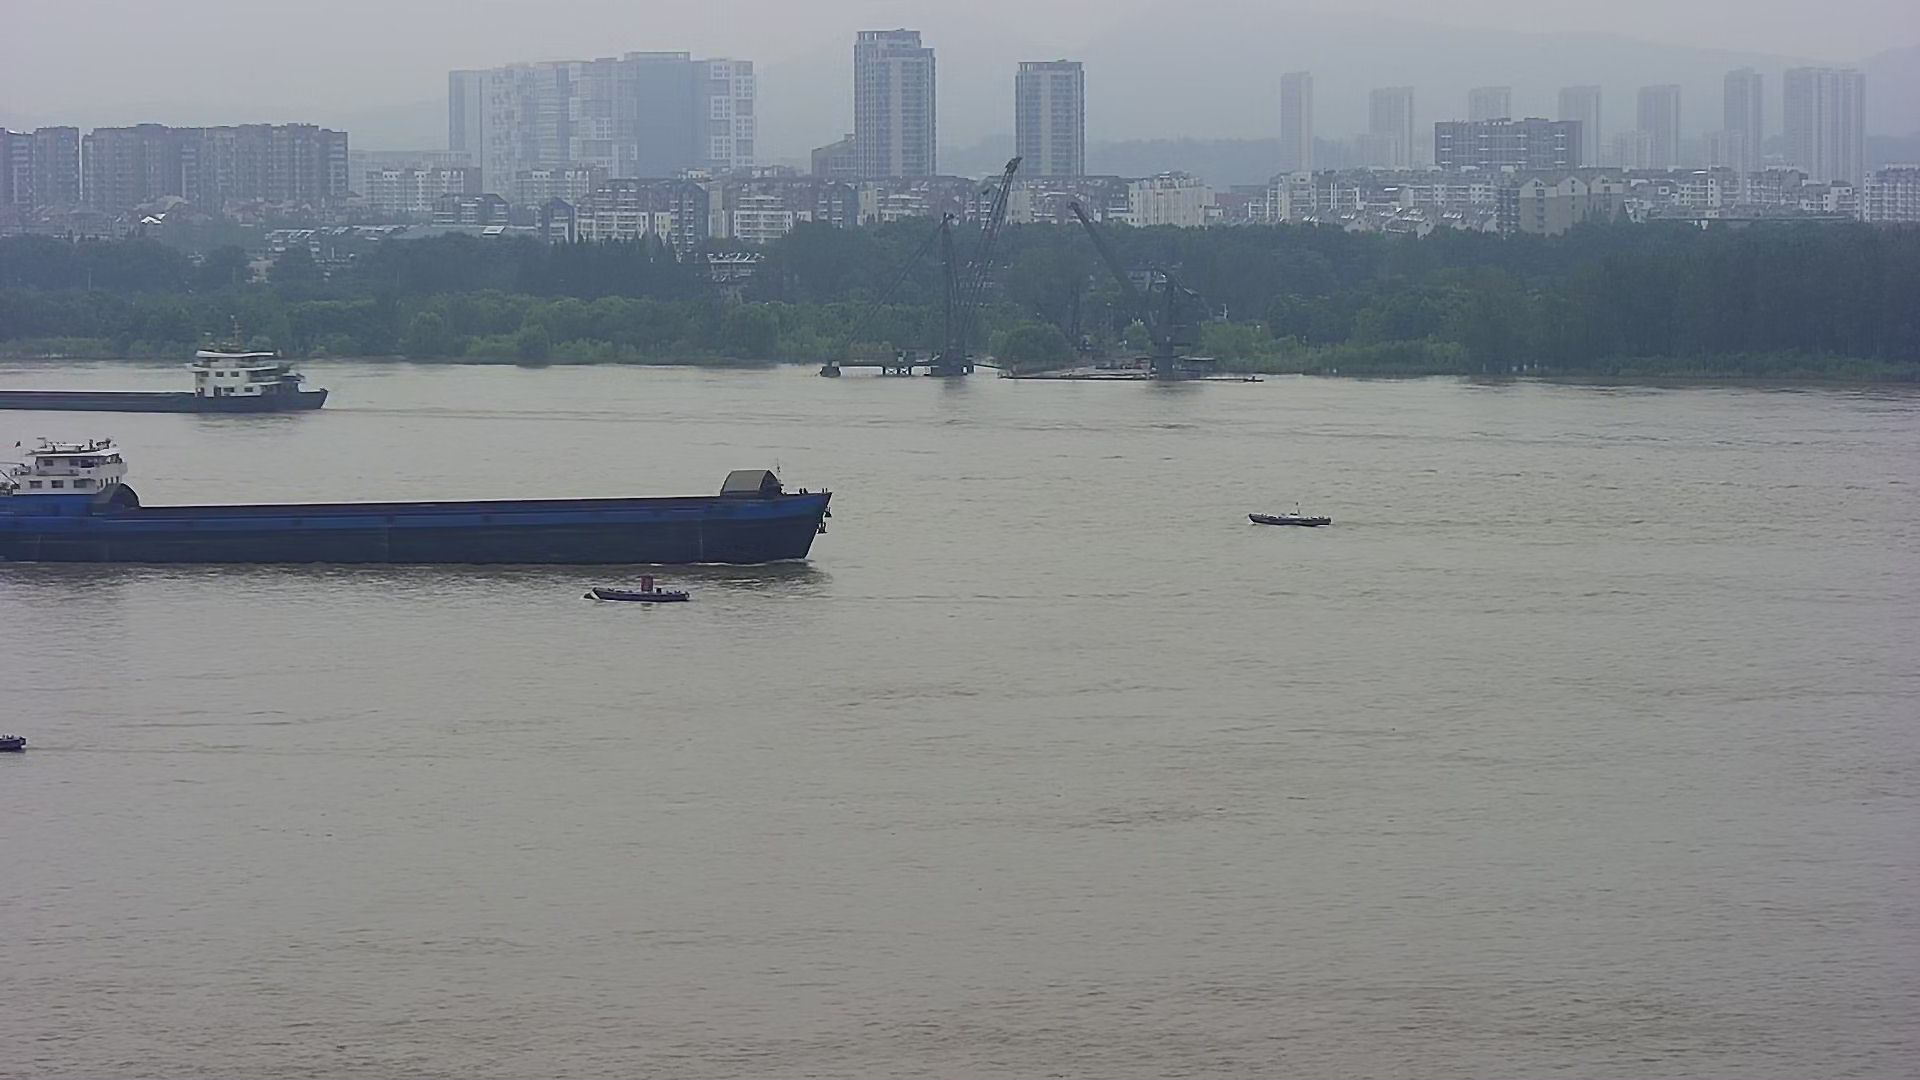boat: (583, 576, 692, 607), (1246, 502, 1332, 531), (1, 727, 26, 752)
harbor: (810, 338, 1263, 390)
ship: (1, 431, 839, 568), (3, 331, 330, 415)
